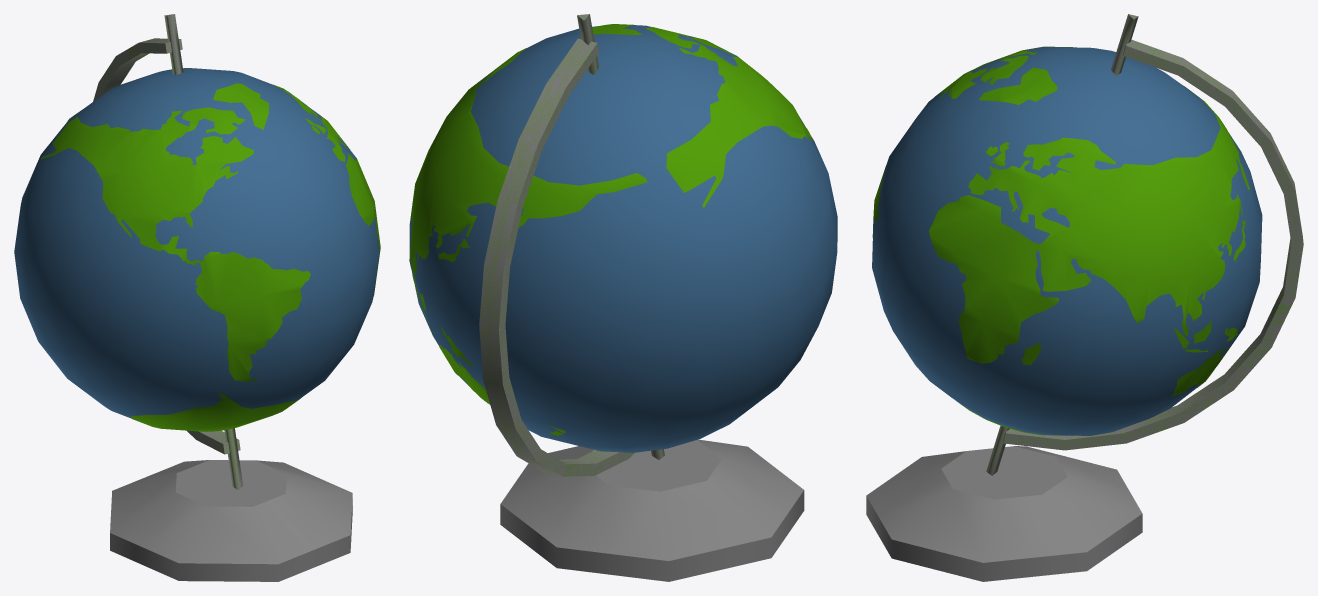
Rendered from globe.dae.
3 views of the same model, side by side, from view 1: azimuth 30°, elevation 25°; view 2: azimuth 150°, elevation 25°; view 3: azimuth 270°, elevation 25° (orthographic). The views are drawn at different scales.
Visible parts, largest first — view 1: globe_quarter (×6), group_2 (×4), globe_base_quarter (×4), Globe (×2); view 2: globe_quarter (×6), globe_base_quarter (×4), group_2 (×3), Globe (×2); view 3: globe_quarter (×7), group_2 (×4), globe_base_quarter (×4), Globe (×2).
Part boxes in pixels (x1,y1,x2,y2): globe_quarter (×6): (14, 68, 379, 418); group_2 (×4): (41, 83, 380, 431); globe_base_quarter (×4): (110, 460, 352, 581); Globe (×2): (93, 14, 243, 489); globe_quarter (×6): (409, 25, 837, 452); globe_base_quarter (×4): (500, 439, 804, 581); group_2 (×3): (409, 27, 812, 404); Globe (×2): (479, 14, 664, 476); globe_quarter (×7): (872, 47, 1262, 435); group_2 (×4): (872, 46, 1249, 396); globe_base_quarter (×4): (866, 446, 1142, 581); Globe (×2): (986, 14, 1303, 475).
Bounding box in the file's own units: 13.93 × 15.62 × 19.99.
